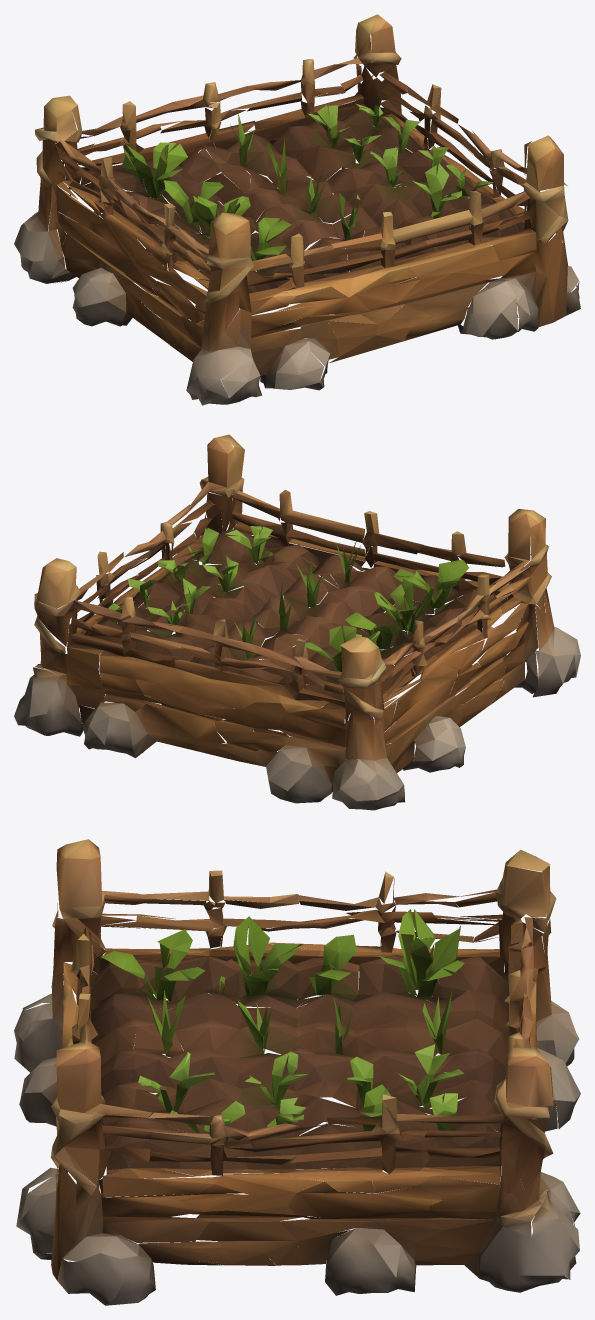
The model's file is building-garden.glb.
3 views of the same model, one above another, from view 1: azimuth 30°, elevation 25°; view 2: azimuth 150°, elevation 25°; view 3: azimuth 270°, elevation 25° (orthographic). The views are drawn at different scales.
Parts seen in each view (by area): view 1: 0_garden; view 2: 0_garden; view 3: 0_garden.
Part boxes in pixels (x1=…): 0_garden: x1=14, y1=14, x2=580, y2=405; 0_garden: x1=14, y1=434, x2=580, y2=810; 0_garden: x1=14, y1=839, x2=580, y2=1305.
Size of the model in its own units: 3.85 by 1.65 by 3.56.
